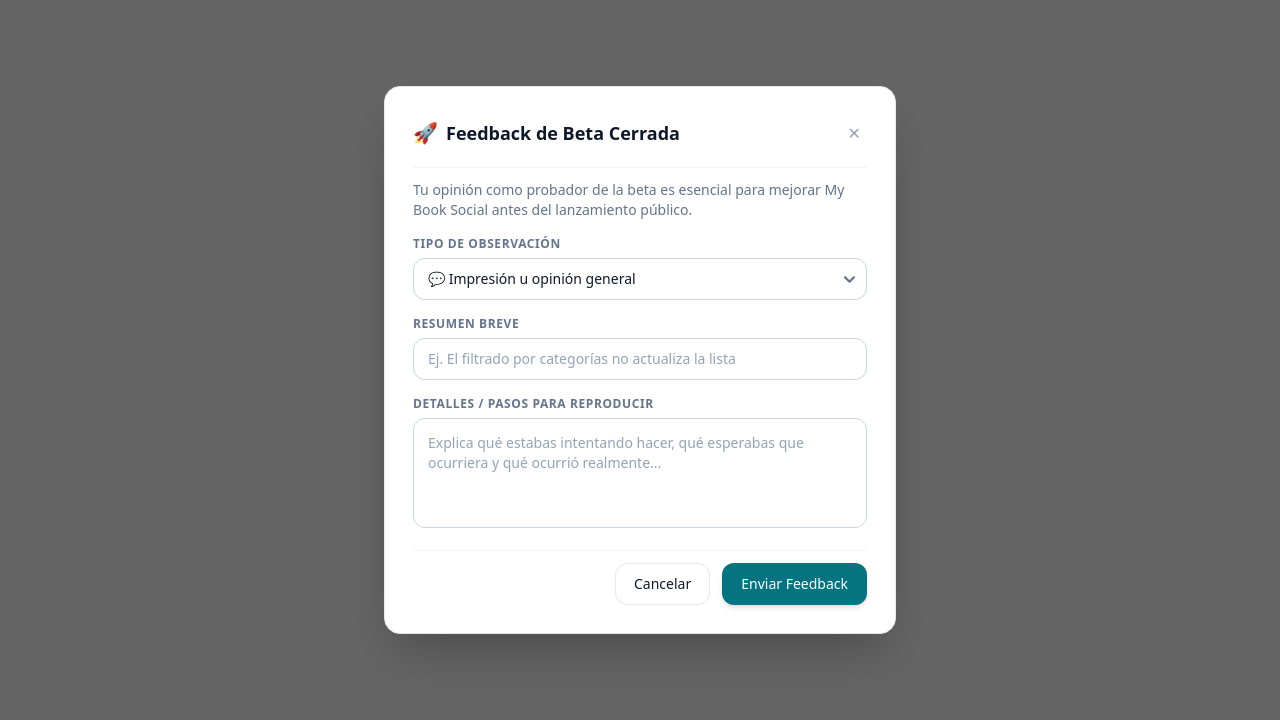
BetaFeedbackModal Component › envía el feedback correctamente y muestra confirmación de éxito
The image size is (1280, 720).
Type "Error en filtrado" into the field labelled "Resumen breve" at (640, 359), box [413,338,867,380]
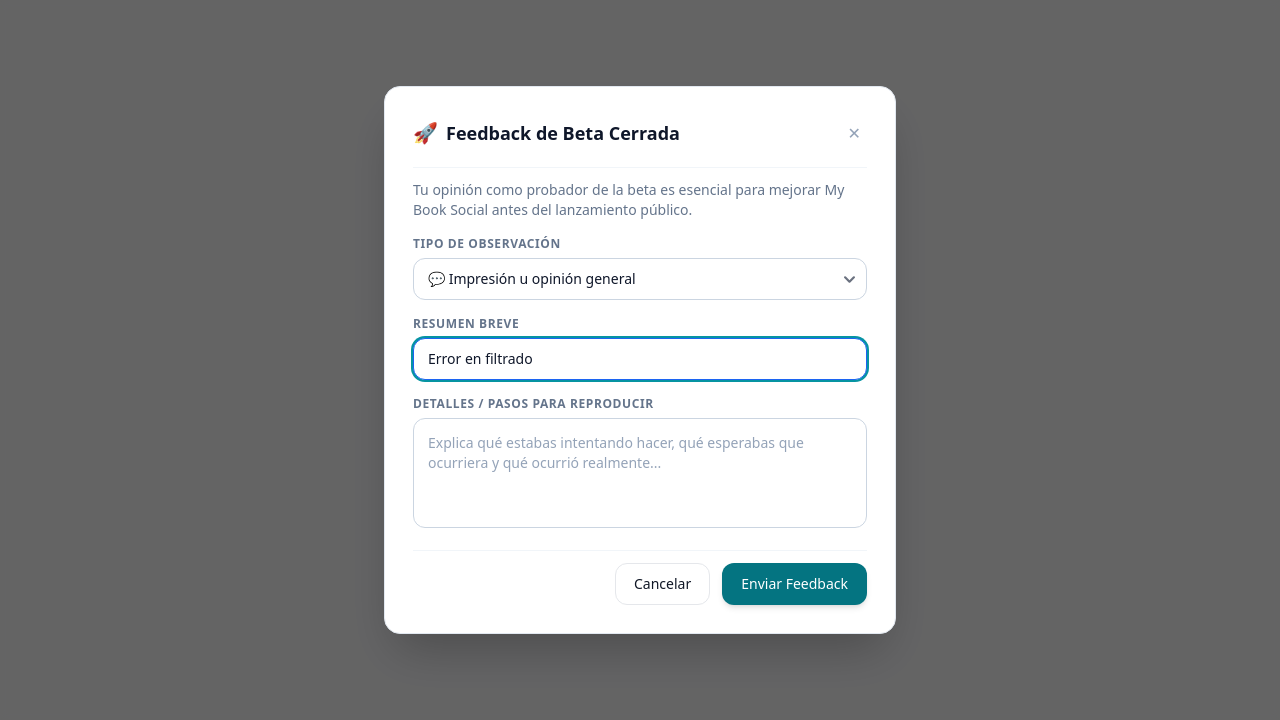
Type "Al pulsar el botón no se actualiza la lista." into the text box labelled "Detalles / Pasos para reproducir" at (640, 473), box [413,418,867,528]
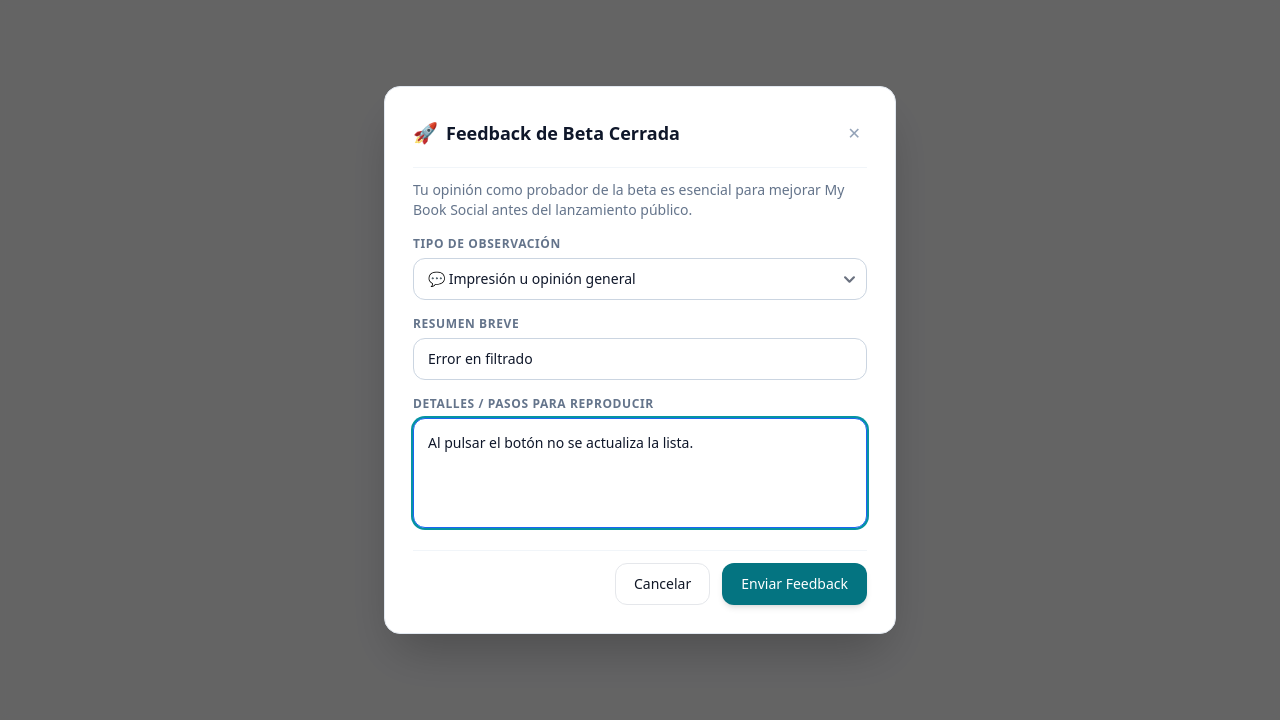
Click the button "Enviar Feedback" at (795, 584), box [722,563,867,605]
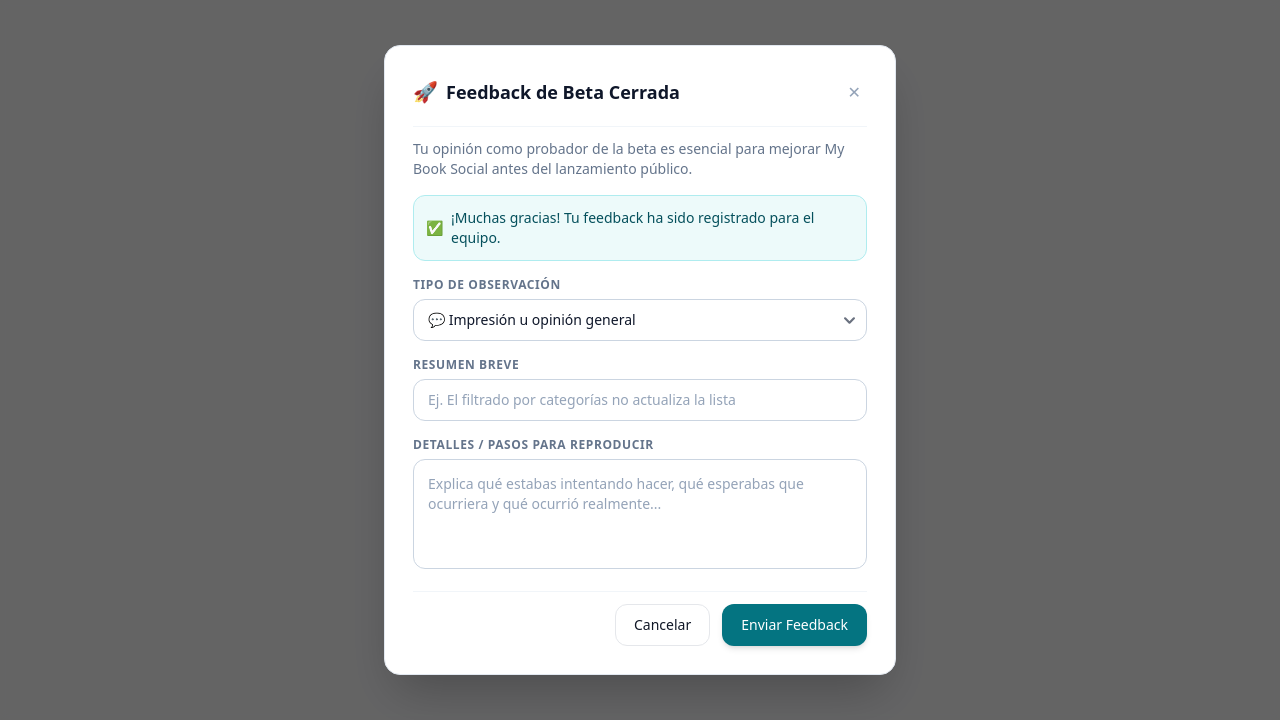
Expected: the text "Tu feedback ha sido registrado para el equipo" is shown, [451,208,814,247]
